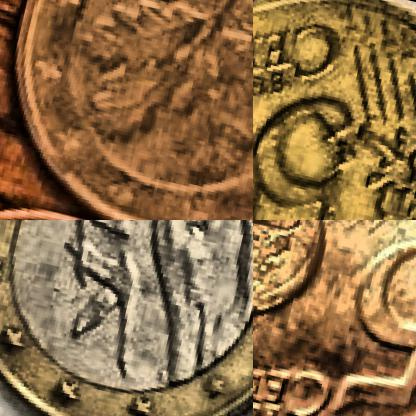coin: (0, 0, 252, 219), (0, 220, 252, 415), (253, 0, 415, 219), (253, 220, 415, 415)
